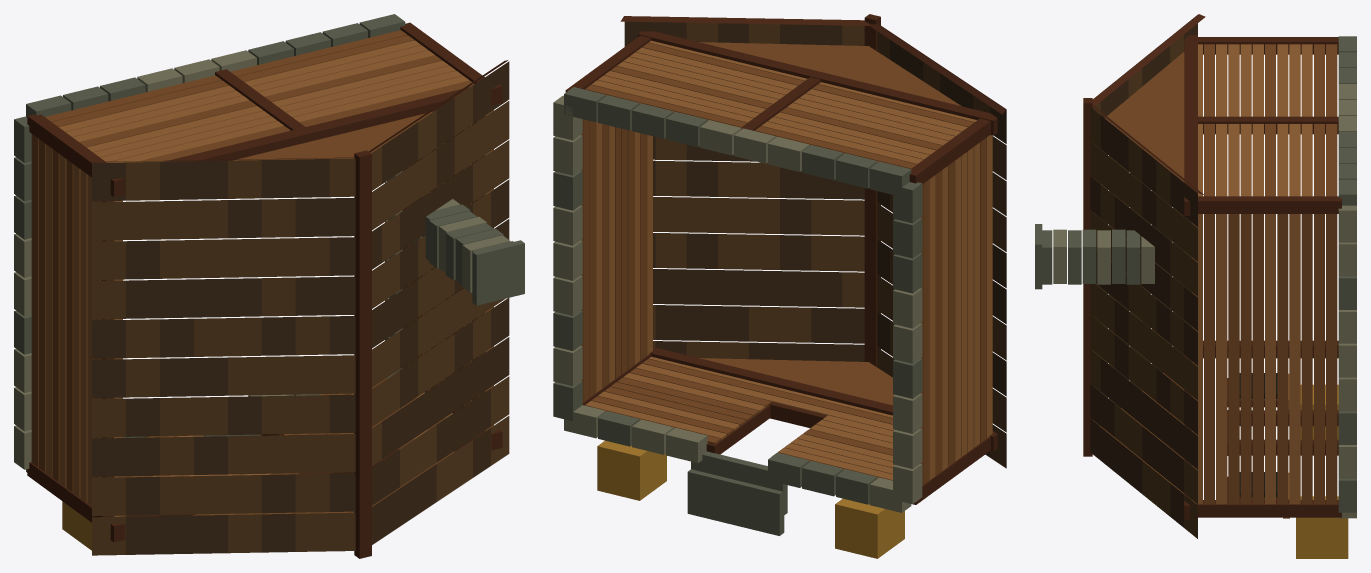
The model's file is SM_RuralBarn.obj.
3 renders of one model, left to right at view 1: azimuth 30°, elevation 25°; view 2: azimuth 150°, elevation 25°; view 3: azimuth 270°, elevation 25°, orthographic. The views are drawn at different scales.
Parts seen in each view (by area): view 1: SM_RuralBarn; view 2: SM_RuralBarn; view 3: SM_RuralBarn.
Part boxes in pixels (x1,y1,x2,y2): SM_RuralBarn: [14, 14, 524, 558]; SM_RuralBarn: [553, 14, 1006, 558]; SM_RuralBarn: [1035, 14, 1356, 558].
Size of the model in its own units: 810 by 828 by 614.
